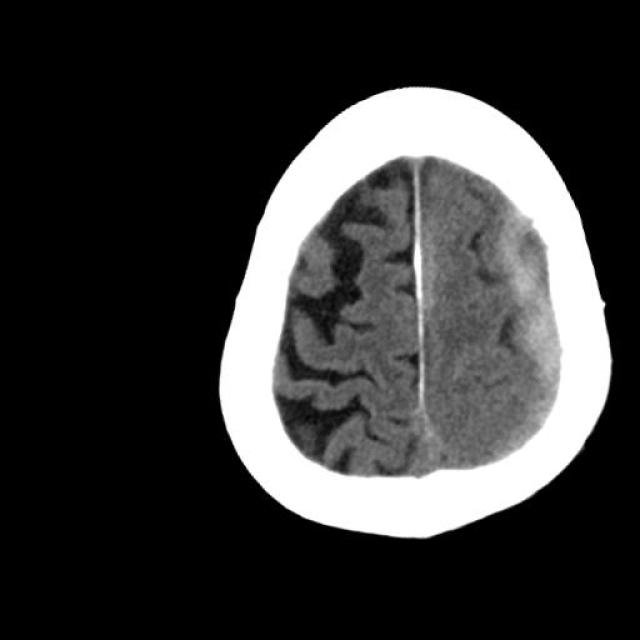Subdural: (430, 142, 620, 430)
